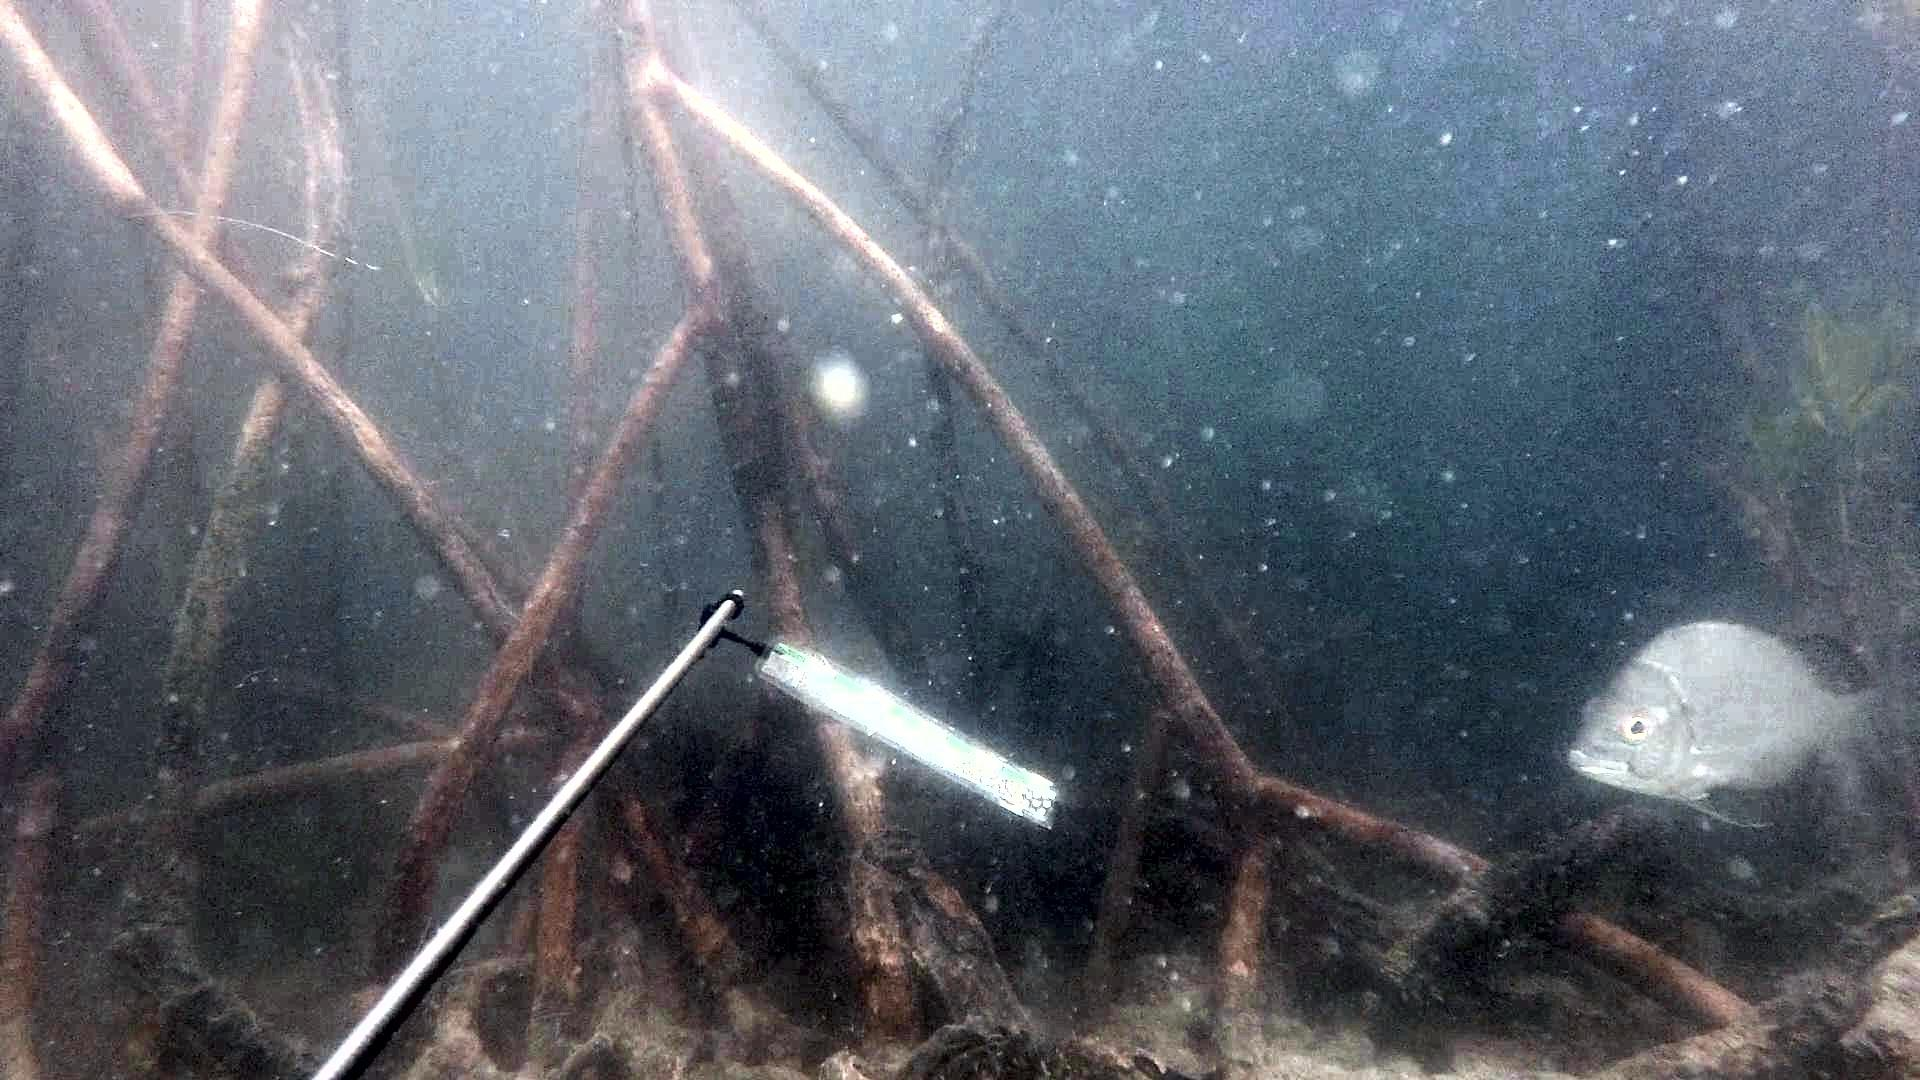acanthopagrus palmaris: (1557, 615, 1920, 843)
